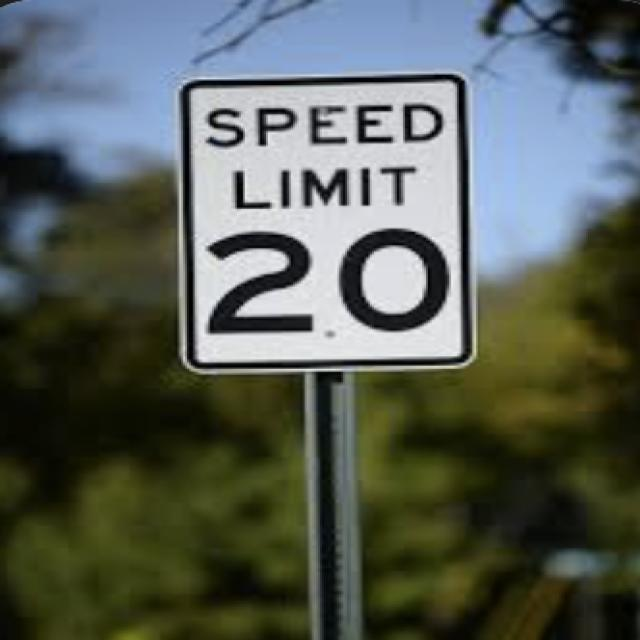speedLimit20: (186, 84, 465, 360)
